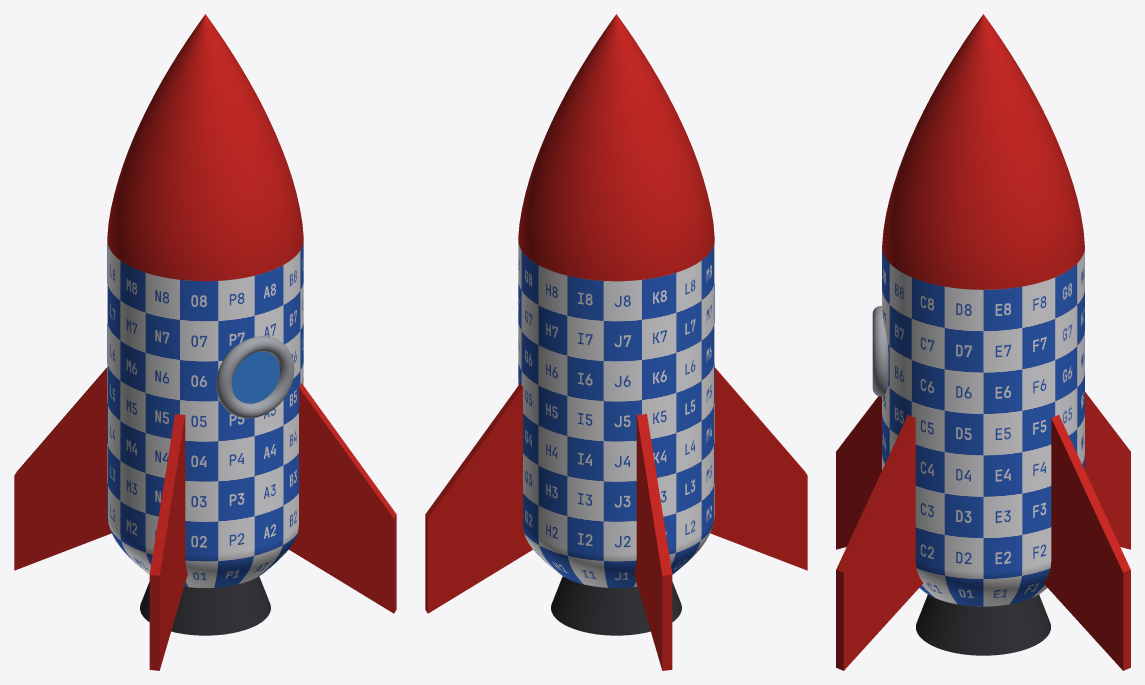
File: sample.dae
The picture shows the model from 3 angles, left to right: view 1: azimuth 30°, elevation 25°; view 2: azimuth 150°, elevation 25°; view 3: azimuth 270°, elevation 25°; orthographic projection. The views are drawn at different scales.
Visible parts, largest first — view 1: Body, Nose, Fins, Nozzle, WindowFrame, Window; view 2: Body, Nose, Fins, Nozzle; view 3: Body, Nose, Fins, Nozzle, WindowFrame.
Boxes of the visible parts, bbox=[...] form: Body: bbox=[107, 242, 303, 587]; Nose: bbox=[107, 14, 303, 281]; Fins: bbox=[14, 367, 396, 670]; Nozzle: bbox=[140, 576, 270, 635]; WindowFrame: bbox=[216, 336, 294, 418]; Window: bbox=[232, 351, 279, 403]; Body: bbox=[518, 242, 714, 587]; Nose: bbox=[518, 14, 714, 281]; Fins: bbox=[425, 367, 807, 670]; Nozzle: bbox=[551, 576, 681, 635]; Body: bbox=[882, 248, 1084, 606]; Nose: bbox=[882, 14, 1084, 289]; Fins: bbox=[836, 392, 1130, 670]; Nozzle: bbox=[916, 594, 1050, 655]; WindowFrame: bbox=[872, 306, 888, 396].
Size of the model in its own units: 0.4356 by 1 by 0.4356.
Materials: 5 (1 with a texture image).
